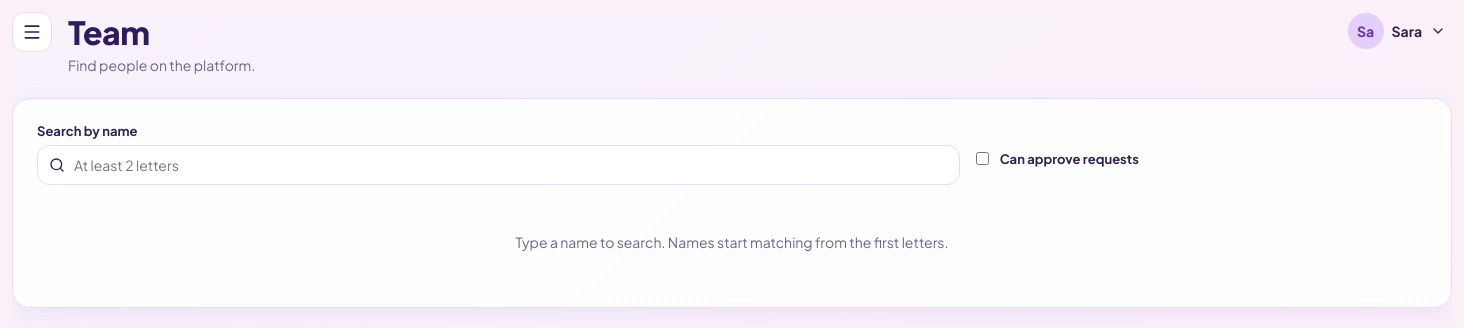
Test case: Team › empty and error states
In the field labelled "Search by name": (498, 165) top-left (37, 145), bottom-right (960, 185), type "zz"
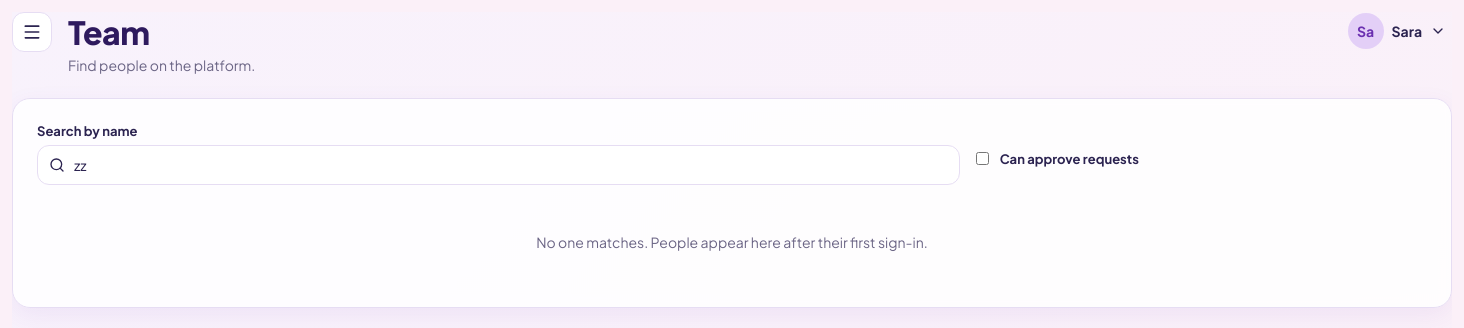
Check: the text "No one matches" is shown, box top-left (536, 233), bottom-right (928, 251)
Replace the text in the field labelled "Search by name" with "zzz": (498, 165) top-left (37, 145), bottom-right (960, 185)
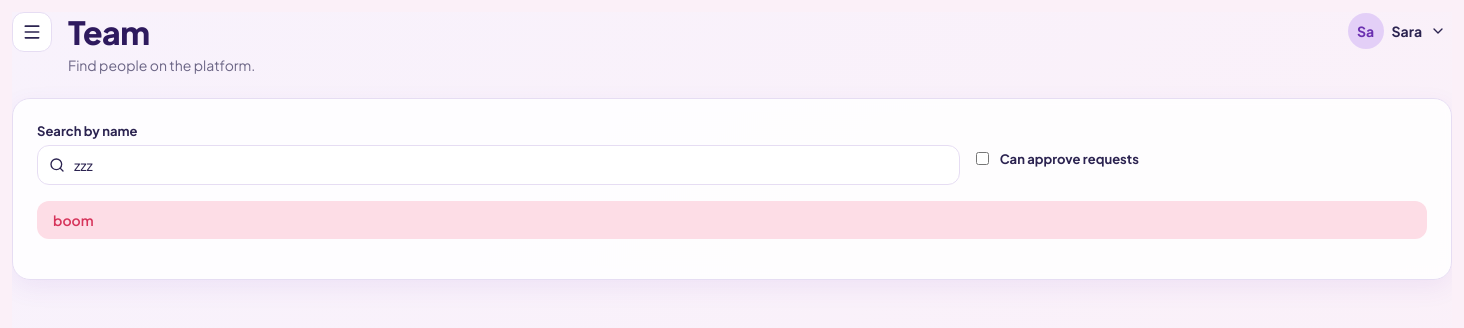
Check: the message reads "boom", box top-left (53, 211), bottom-right (94, 229)
